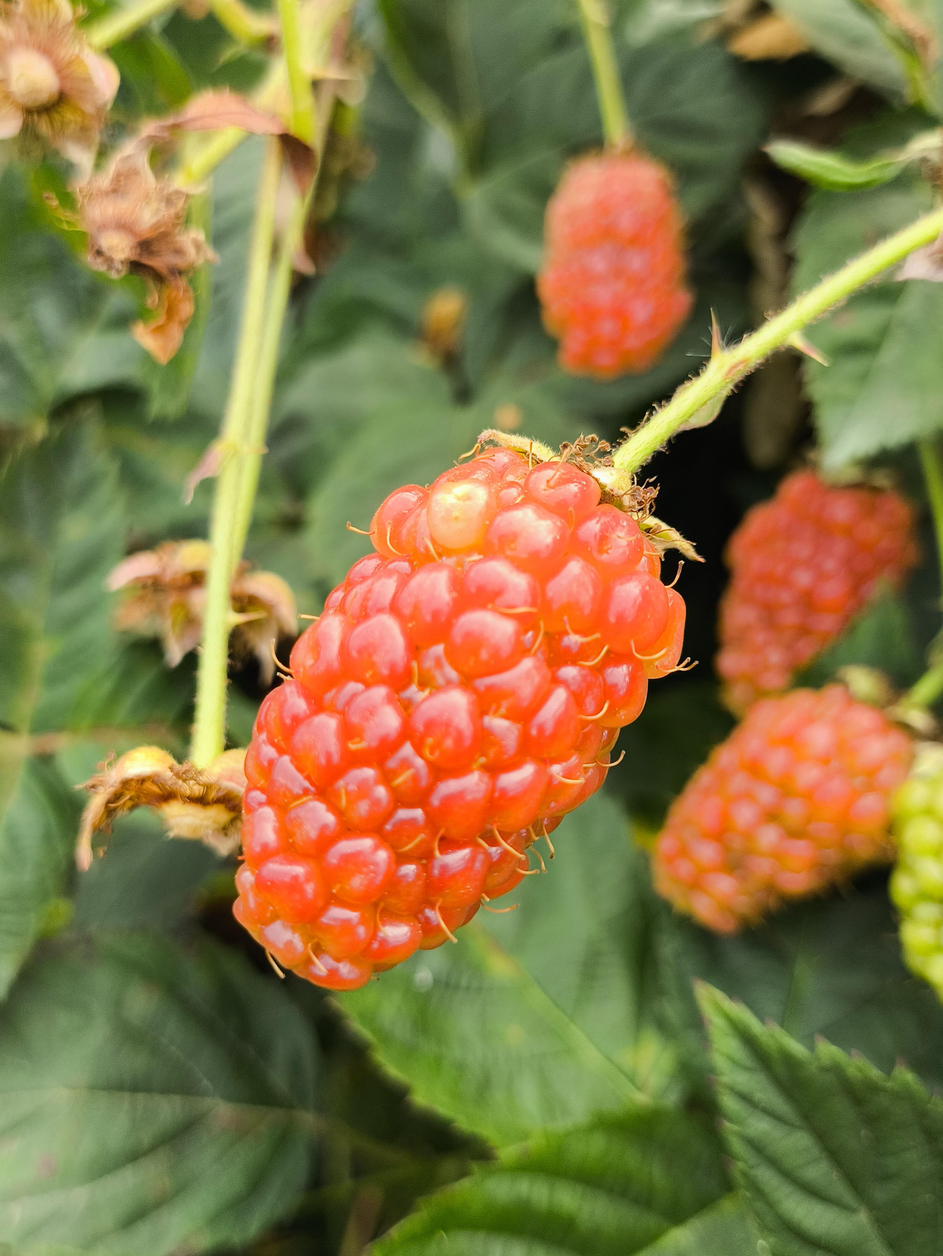naranja: (247, 454, 680, 994), (653, 685, 914, 933), (716, 470, 917, 716), (537, 150, 693, 379)
